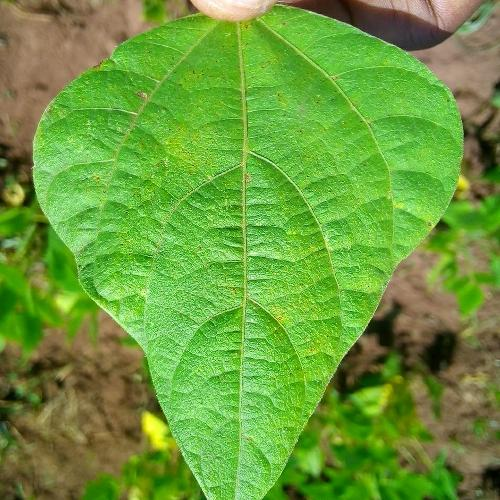sehat: (58, 55, 391, 364)
